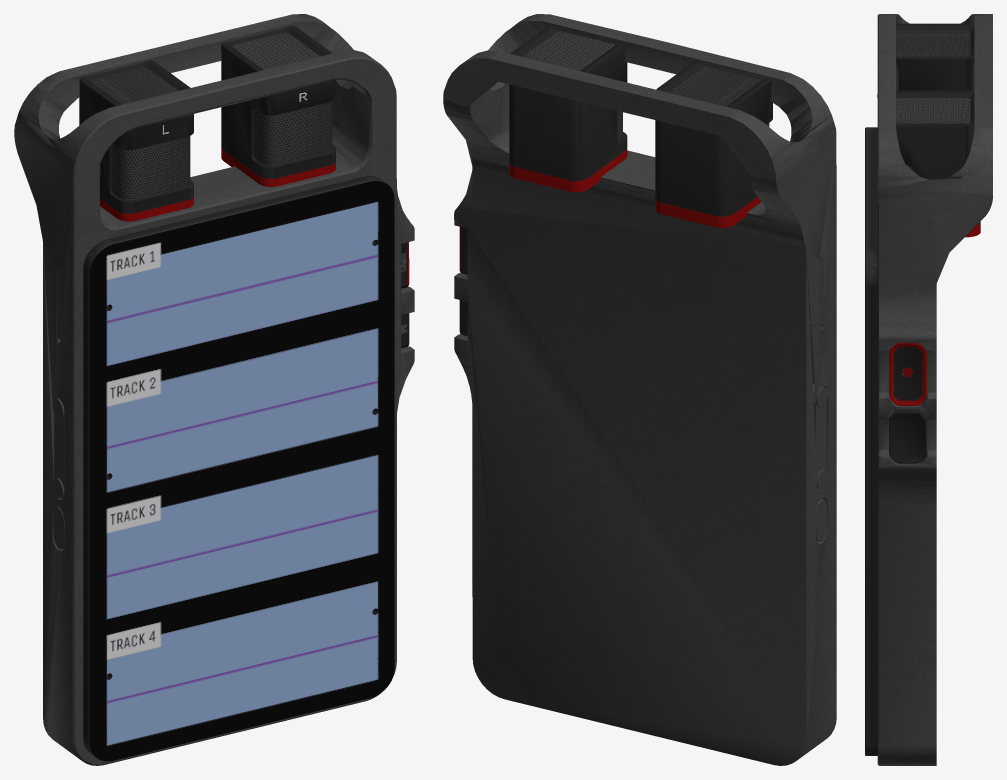
Rendered from mdl_paprika_recorder.gltf.
The picture shows the model from 3 angles, left to right: view 1: azimuth 30°, elevation 25°; view 2: azimuth 150°, elevation 25°; view 3: azimuth 270°, elevation 25°; orthographic projection. The views are drawn at different scales.
Visible parts, largest first — view 1: Cube.002, Cube.005, Cube.004, Slice.003; view 2: Cube.005, Cube.004, Slice.003; view 3: Cube.005, Cube.004, Cube.002, Slice, Slice.001.
Boxes of the visible parts, x1,y1,x2,y2 form: Cube.002: (83, 176, 394, 761); Cube.005: (14, 14, 414, 765); Cube.004: (79, 26, 335, 221); Slice.003: (54, 413, 64, 490); Cube.005: (443, 14, 836, 765); Cube.004: (509, 25, 772, 227); Slice.003: (815, 402, 826, 476); Cube.005: (877, 14, 992, 765); Cube.004: (896, 23, 980, 237); Cube.002: (865, 127, 877, 755); Slice: (889, 342, 926, 405); Slice.001: (889, 411, 926, 463).
Bounding box in the file's own units: 2.67 × 4.82 × 0.8883.
3 materials, 3 textured.
